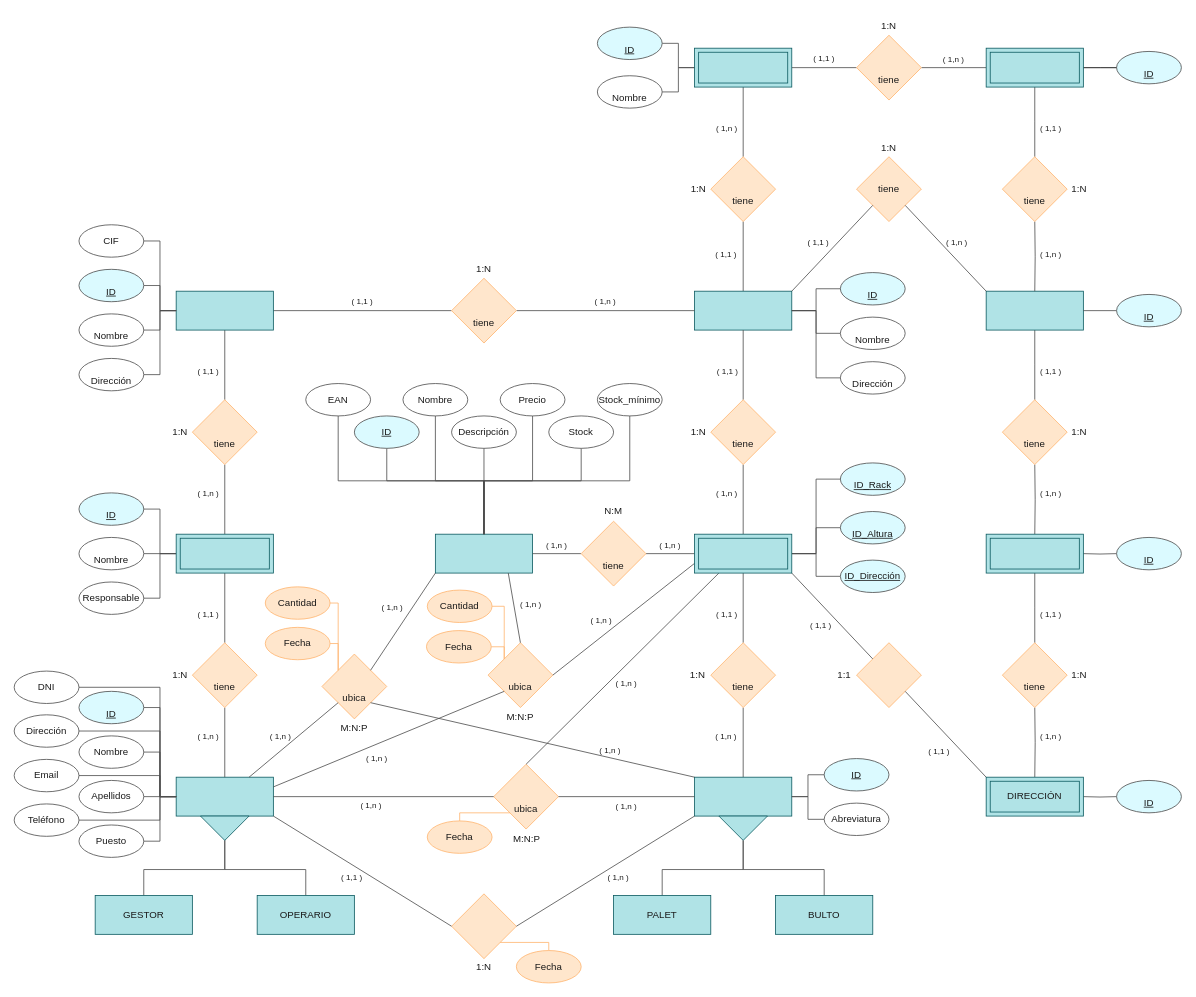
This 1196x997 diagram has some shape labels left out. Here are the shapes that lost their labels. From the top down, the centre of each, then its label:
point (743, 67): ZONA
point (1034, 67): PASILLO
point (224, 310): TIENDA
point (743, 310): ALMACÉN
point (1034, 310): RACK
point (224, 553): DEPARTAMENTO
point (484, 553): PRODUCTO
point (743, 553): UBICACIÓN
point (1034, 553): ALTURA
point (888, 675): es
point (224, 796): EMPLEADO
point (743, 796): SOPORTE
point (224, 827): S,T
point (742, 827): D,T
point (483, 926): crea
